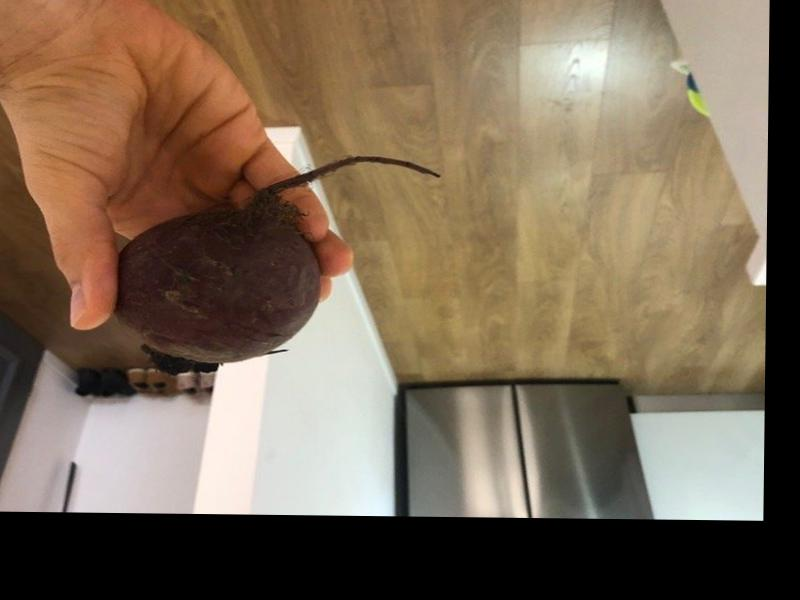Beet: (114, 153, 440, 375)
